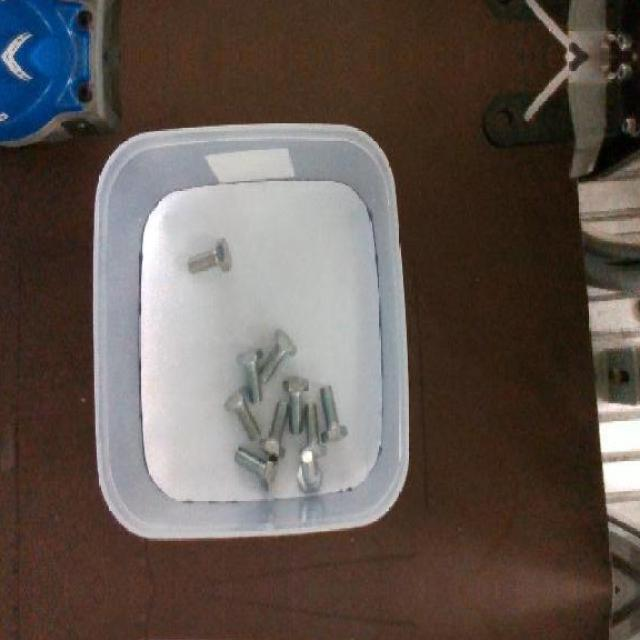screw: (258, 326, 298, 382), (223, 384, 260, 440), (234, 446, 279, 488), (319, 382, 348, 442), (188, 237, 232, 274), (260, 400, 288, 458), (236, 347, 264, 402), (283, 376, 309, 434), (297, 448, 323, 492)
